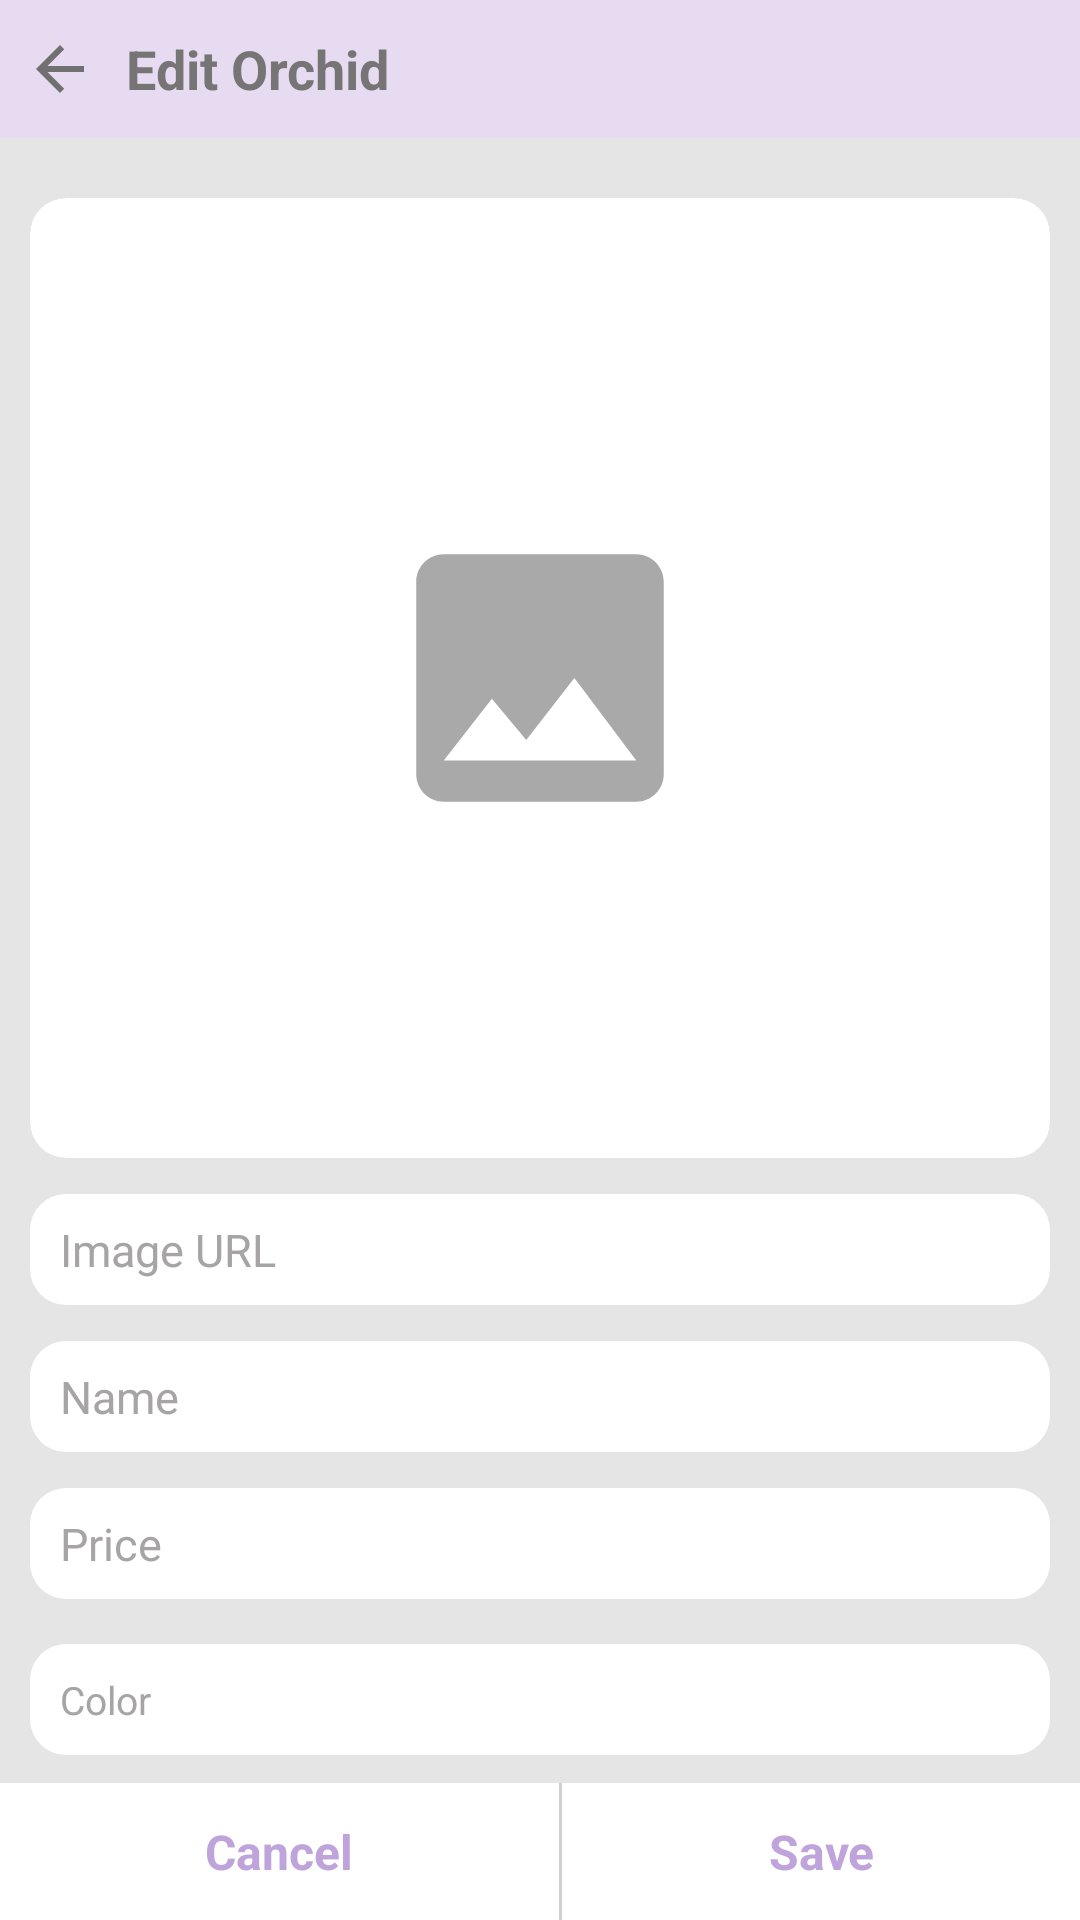

Screen size 1080 × 1920. Icon name, then its center in pixels as (x,y):
cart back: (60,69)
orchid insert photo: (540,678)
